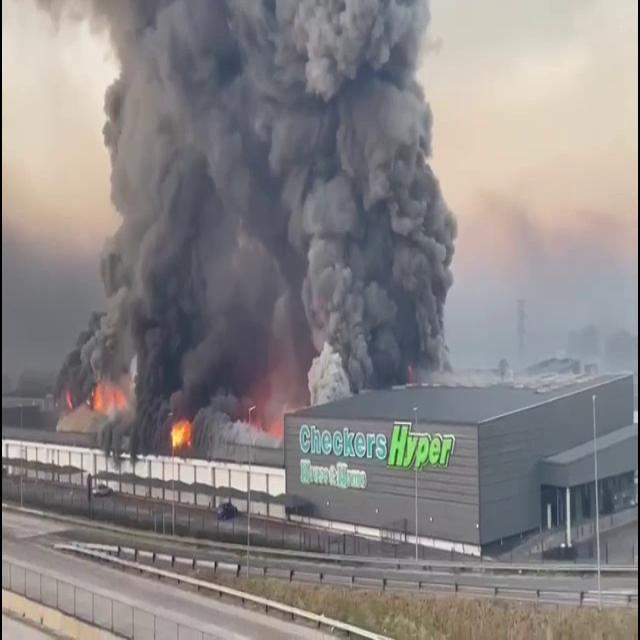Fire: (240, 372, 284, 438), (87, 376, 130, 413), (169, 415, 192, 450), (64, 387, 74, 412)
Smoke: (36, 0, 458, 387), (2, 210, 310, 444), (402, 196, 636, 385), (306, 343, 354, 405)
